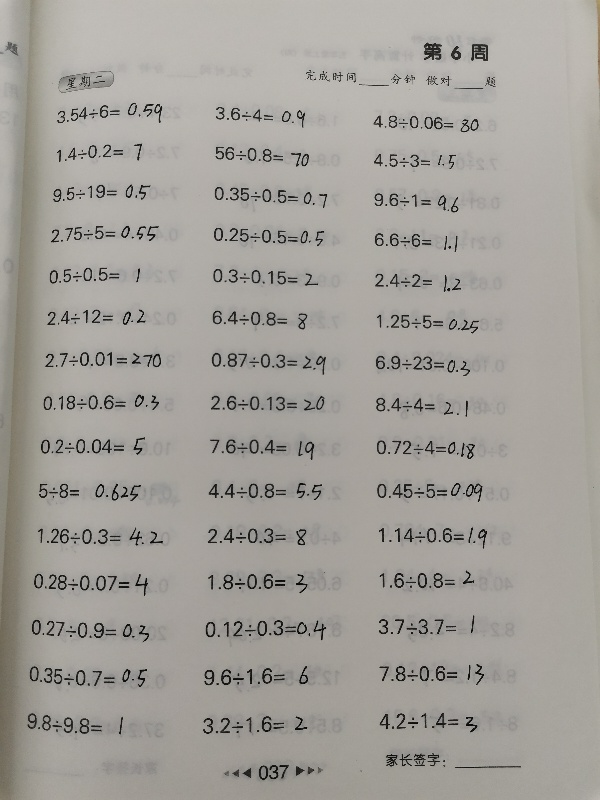equation: (28, 473, 148, 506), (202, 616, 330, 644), (29, 570, 151, 599), (40, 260, 157, 290), (35, 524, 167, 550), (23, 712, 142, 740), (207, 349, 329, 376), (376, 660, 488, 689), (374, 521, 490, 549), (53, 98, 165, 127), (27, 617, 153, 642), (25, 664, 150, 689), (42, 348, 166, 372), (372, 477, 486, 503), (39, 390, 162, 414), (205, 435, 317, 461), (204, 478, 325, 502), (375, 615, 491, 640), (205, 570, 312, 597), (210, 184, 330, 208), (37, 434, 150, 459), (200, 663, 312, 688), (47, 221, 162, 245), (368, 147, 470, 174), (209, 225, 327, 248), (206, 392, 328, 414), (199, 712, 310, 736), (375, 709, 481, 734), (204, 523, 310, 548), (372, 436, 478, 461), (49, 180, 153, 205), (369, 112, 482, 135), (371, 352, 474, 377), (43, 305, 148, 329), (373, 311, 482, 334), (208, 266, 321, 288), (375, 567, 478, 591), (208, 307, 311, 331), (211, 143, 313, 167), (371, 394, 472, 418), (211, 104, 308, 128), (371, 269, 464, 294), (370, 189, 463, 213), (53, 140, 145, 164), (370, 229, 461, 253)
